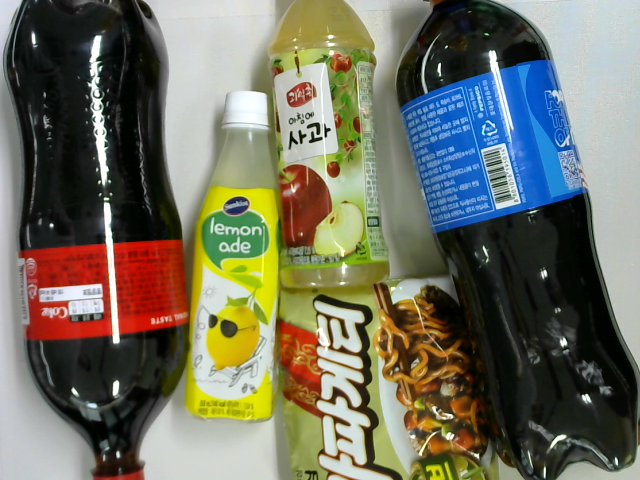Coca_Cola_1.5L: (4, 1, 190, 480)
Morning_Apple_500ml: (267, 1, 389, 291)
Olive_Chapaghetti: (279, 270, 500, 480)
Pepsi_Cola_1.5L: (396, 1, 640, 480)
Sunkist_Lemonaid_Pet: (189, 89, 279, 424)
